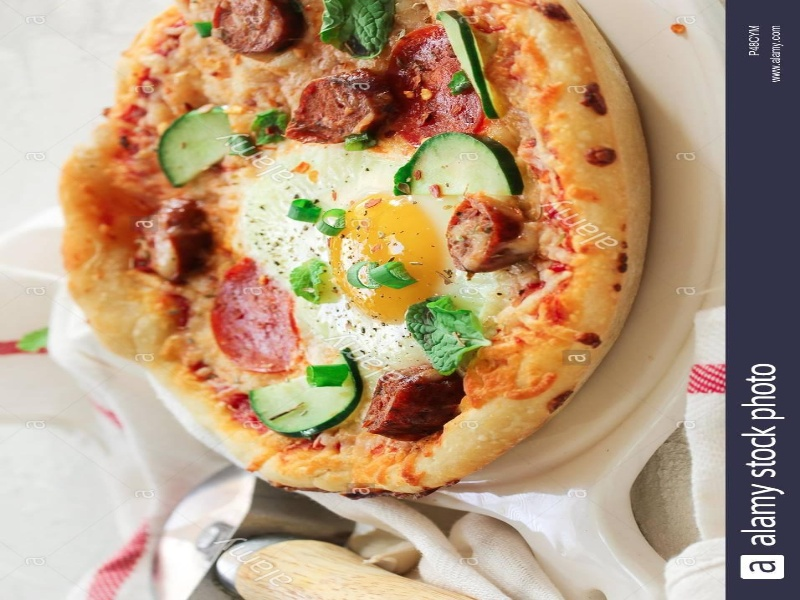oeuf: (302, 185, 458, 328)
